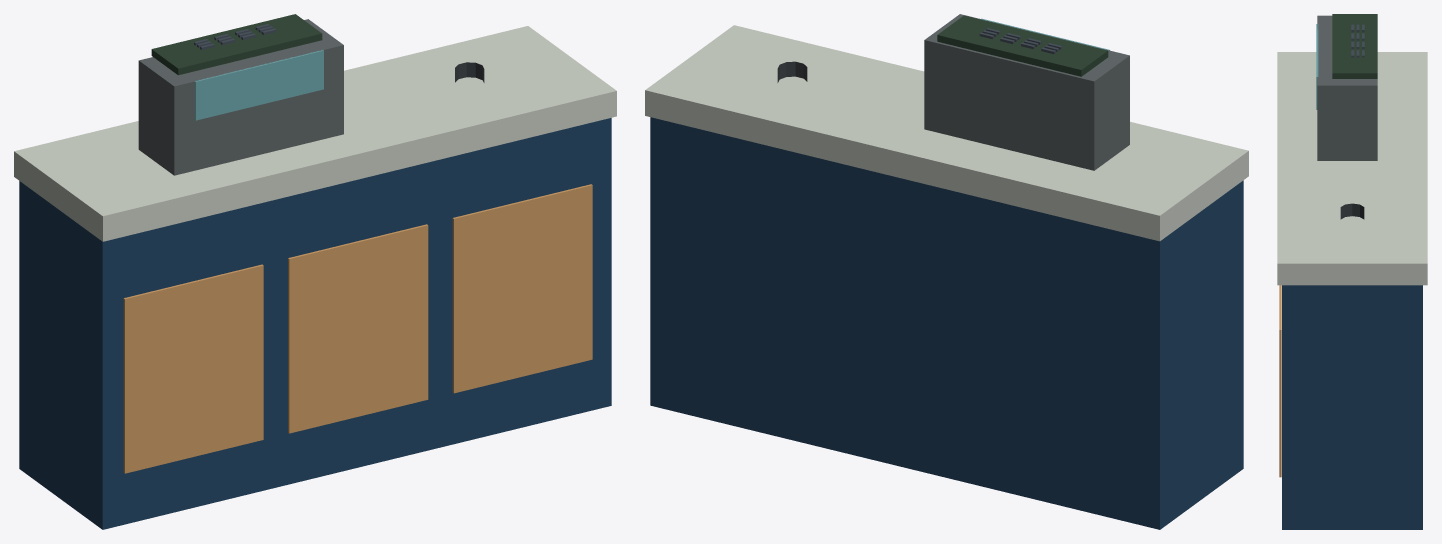
File: reception_hatch.glb
3 renders of one model, left to right at view 1: azimuth 30°, elevation 25°; view 2: azimuth 150°, elevation 25°; view 3: azimuth 270°, elevation 25°, orthographic. The views are drawn at different scales.
Visible parts, largest first — view 1: object 1; view 2: object 1; view 3: object 1.
Part boxes in pixels (<box>): object 1: <box>14,14,616,529</box>; object 1: <box>645,14,1248,529</box>; object 1: <box>1277,14,1427,529</box>.
Size of the model in its own units: 2 by 1.55 by 0.5981.
Materials: 1 (1 with a texture image).
